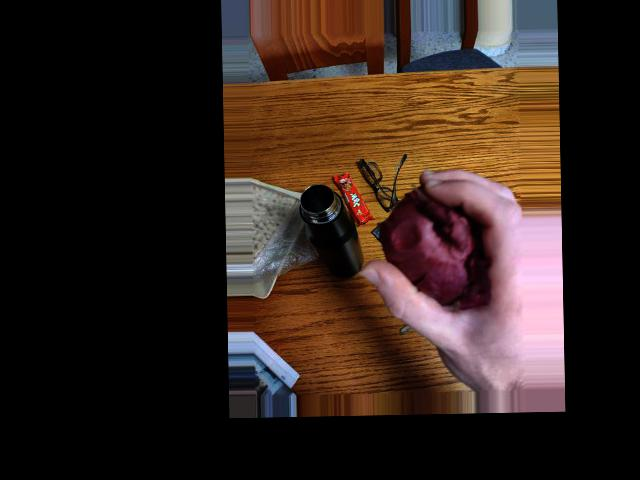onion: (400, 204, 484, 291)
